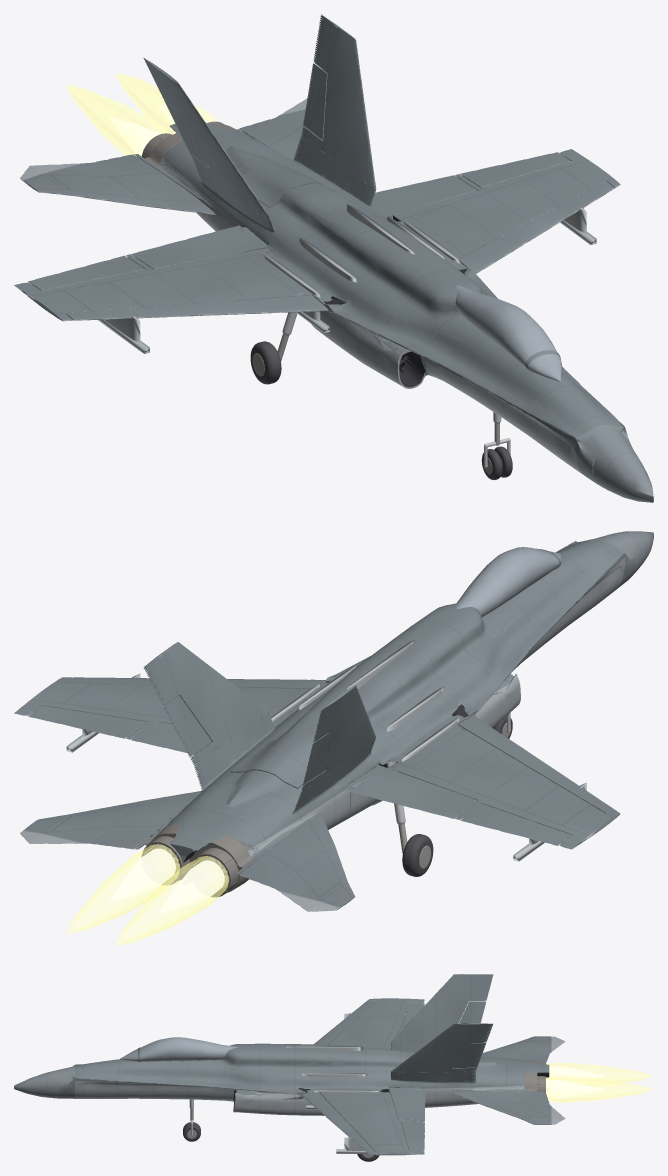
The picture shows the model from 3 angles, top to bottom: view 1: azimuth 30°, elevation 25°; view 2: azimuth 150°, elevation 25°; view 3: azimuth 270°, elevation 25°; orthographic projection. The views are drawn at different scales.
Visible parts, largest first — view 1: fsim:section:nose, fsim:section:tail, fsim:section:centre, fsim:section:right-wing, fsim:section:left-wing, fsim:elevator+aileron:-0.4@-24,10.5, fsim:lef@-3,34 (×2), fsim:flaps (×2), fsim:aileron (×2), fsim:afterburner:1, fsim:speedbrake:1.0472, fsim:elevator+aileron:0.4@-24,10.5 (+6 smaller); view 2: fsim:section:tail, fsim:section:nose, fsim:section:centre, fsim:section:right-wing, fsim:elevator+aileron:-0.4@-24,10.5, fsim:section:left-wing, fsim:elevator+aileron:0.4@-24,10.5, fsim:afterburner:1, fsim:afterburner:0, fsim:flaps (×2), fsim:aileron (×2), fsim:lef@-3,34 (×2) (+5 smaller); view 3: fsim:section:nose, fsim:section:tail, fsim:section:centre, fsim:section:left-wing, fsim:section:right-wing, fsim:elevator+aileron:0.4@-24,10.5, fsim:afterburner:0, fsim:afterburner:1, fsim:lef@-3,34 (×2), fsim:elevator+aileron:-0.4@-24,10.5, fsim:flaps, fsim:rudder (×2) (+4 smaller).
Part boxes in pixels (x1,y1,x2,y2): fsim:section:nose: [368, 265, 653, 502]; fsim:section:tail: [134, 14, 381, 255]; fsim:section:centre: [270, 197, 497, 375]; fsim:section:right-wing: [14, 249, 354, 344]; fsim:section:left-wing: [393, 149, 620, 276]; fsim:elevator+aileron:-0.4@-24,10.5: [20, 154, 215, 214]; fsim:lef@-3,34 (×2): [66, 182, 614, 320]; fsim:flaps (×2): [131, 175, 476, 269]; fsim:aileron (×2): [28, 152, 570, 290]; fsim:afterburner:1: [66, 85, 169, 156]; fsim:speedbrake:1.0472: [242, 162, 336, 207]; fsim:elevator+aileron:0.4@-24,10.5: [239, 98, 310, 159]; fsim:section:tail: [134, 642, 395, 892]; fsim:section:nose: [415, 531, 653, 725]; fsim:section:centre: [274, 620, 511, 767]; fsim:section:right-wing: [391, 704, 620, 849]; fsim:elevator+aileron:-0.4@-24,10.5: [239, 814, 355, 911]; fsim:section:left-wing: [14, 676, 336, 739]; fsim:elevator+aileron:0.4@-24,10.5: [20, 791, 201, 849]; fsim:afterburner:1: [115, 856, 228, 945]; fsim:afterburner:0: [66, 844, 179, 933]; fsim:flaps (×2): [131, 721, 476, 818]; fsim:aileron (×2): [28, 705, 570, 845]; fsim:lef@-3,34 (×2): [66, 677, 614, 813]; fsim:section:nose: [14, 1037, 272, 1114]; fsim:section:tail: [371, 974, 549, 1107]; fsim:section:centre: [246, 1043, 390, 1115]; fsim:section:left-wing: [284, 1088, 424, 1155]; fsim:section:right-wing: [329, 998, 424, 1049]; fsim:elevator+aileron:0.4@-24,10.5: [452, 1091, 565, 1124]; fsim:afterburner:0: [546, 1076, 653, 1102]; fsim:afterburner:1: [546, 1062, 653, 1086]; fsim:lef@-3,34 (×2): [301, 1001, 374, 1151]; fsim:elevator+aileron:-0.4@-24,10.5: [481, 1036, 565, 1062]; fsim:flaps: [388, 1087, 425, 1120]; fsim:rudder (×2): [453, 1001, 486, 1068].
Bounding box in the file's own units: 11.43 × 4.86 × 19.95.
Materials: 13 (1 with a texture image).
